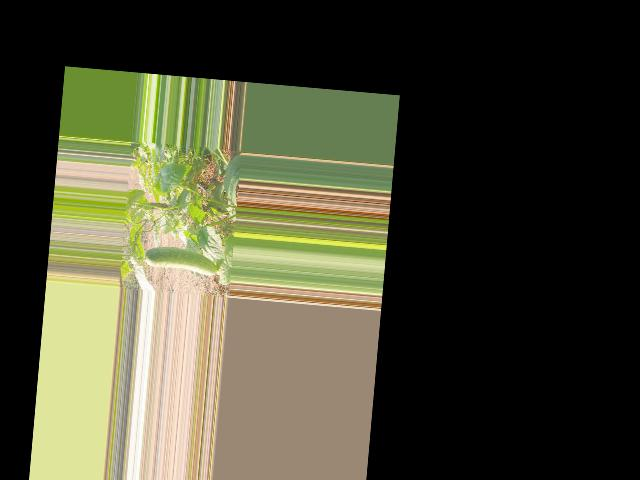cucumber: (144, 245, 218, 276)
